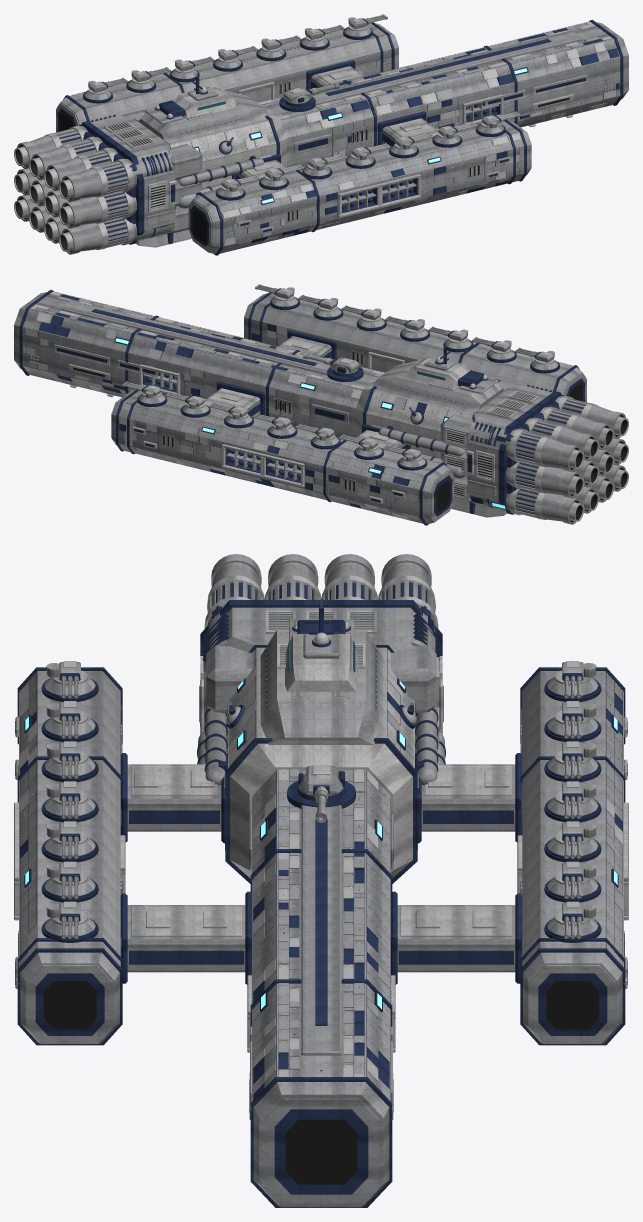
File: 機戰風_聯盟.glb
The picture shows the model from 3 angles, top to bottom: view 1: azimuth 30°, elevation 25°; view 2: azimuth 150°, elevation 25°; view 3: azimuth 270°, elevation 25°; orthographic projection. The views are drawn at different scales.
Visible parts, largest first — view 1: pontoons_pont_mid, hull_hull_mid, citadel_mid, pontoons_dark, citadel_light, engines.thruster.003, hull_mid, engines_mid, hull_dark, engines.thruster.011, engines.thruster.007, engines_dark (+33 smaller); view 2: pontoons_pont_mid, hull_hull_mid, citadel_mid, pontoons_dark, citadel_light, engines.thruster.002, hull_mid, engines_mid, hull_dark, engines.thruster.010, engines.thruster.006, engines_dark (+33 smaller); view 3: pontoons_pont_mid, hull_hull_mid, pontoons_dark, pontoons_mid, citadel_light, citadel_mid, hull_mid, pontoons_light, hull_dark, engines.thruster.002, engines.thruster.003, engines_mid (+22 smaller).
Part boxes in pixels (<box>): pontoons_pont_mid: <box>57,23,531,253</box>; hull_hull_mid: <box>259,21,628,167</box>; citadel_mid: <box>135,87,270,247</box>; pontoons_dark: <box>58,22,526,255</box>; citadel_light: <box>136,86,286,188</box>; engines.thruster.003: <box>59,144,202,201</box>; hull_mid: <box>294,30,582,154</box>; engines_mid: <box>82,115,176,240</box>; hull_dark: <box>298,19,623,150</box>; engines.thruster.011: <box>59,206,188,254</box>; engines.thruster.007: <box>59,179,202,228</box>; engines_dark: <box>79,114,175,244</box>; pontoons_pont_mid: <box>111,293,585,523</box>; hull_hull_mid: <box>14,291,383,437</box>; citadel_mid: <box>372,357,507,517</box>; pontoons_dark: <box>116,292,584,525</box>; citadel_light: <box>356,356,506,458</box>; engines.thruster.002: <box>440,414,583,471</box>; hull_mid: <box>60,300,348,424</box>; engines_mid: <box>466,385,560,510</box>; hull_dark: <box>19,289,344,420</box>; engines.thruster.010: <box>454,476,583,524</box>; engines.thruster.006: <box>440,449,583,498</box>; engines_dark: <box>467,384,563,514</box>; pontoons_pont_mid: <box>19,671,623,1043</box>; hull_hull_mid: <box>252,770,390,1207</box>; pontoons_dark: <box>15,667,627,1045</box>; pontoons_mid: <box>18,724,624,1042</box>; citadel_light: <box>224,634,418,878</box>; citadel_mid: <box>198,619,444,850</box>; hull_mid: <box>249,805,393,1204</box>; pontoons_light: <box>15,717,627,988</box>; hull_dark: <box>245,819,397,1207</box>; engines.thruster.002: <box>378,554,439,713</box>; engines.thruster.003: <box>204,554,264,713</box>; engines_mid: <box>200,607,442,733</box>.
Size of the model in its own units: 1000 by 256 by 491.
Materials: 7 (4 with a texture image).
